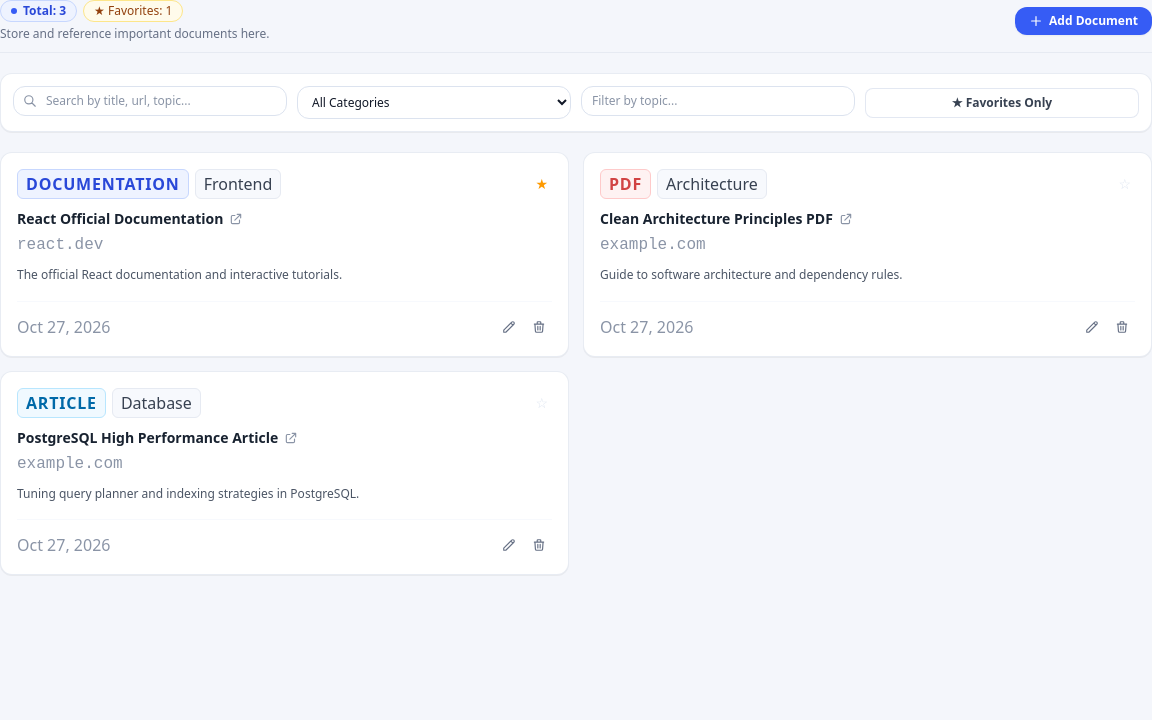
Test: Document Library Feature Frontend Test Suite › deletes a document via confirmation modal
The width and height of the screenshot is (1152, 720).
Expected: the text "Clean Architecture Principles PDF" is shown, [600,209,833,229]
Click the button titled "Delete document": {"x": 1122, "y": 326} [1109,314,1135,340]
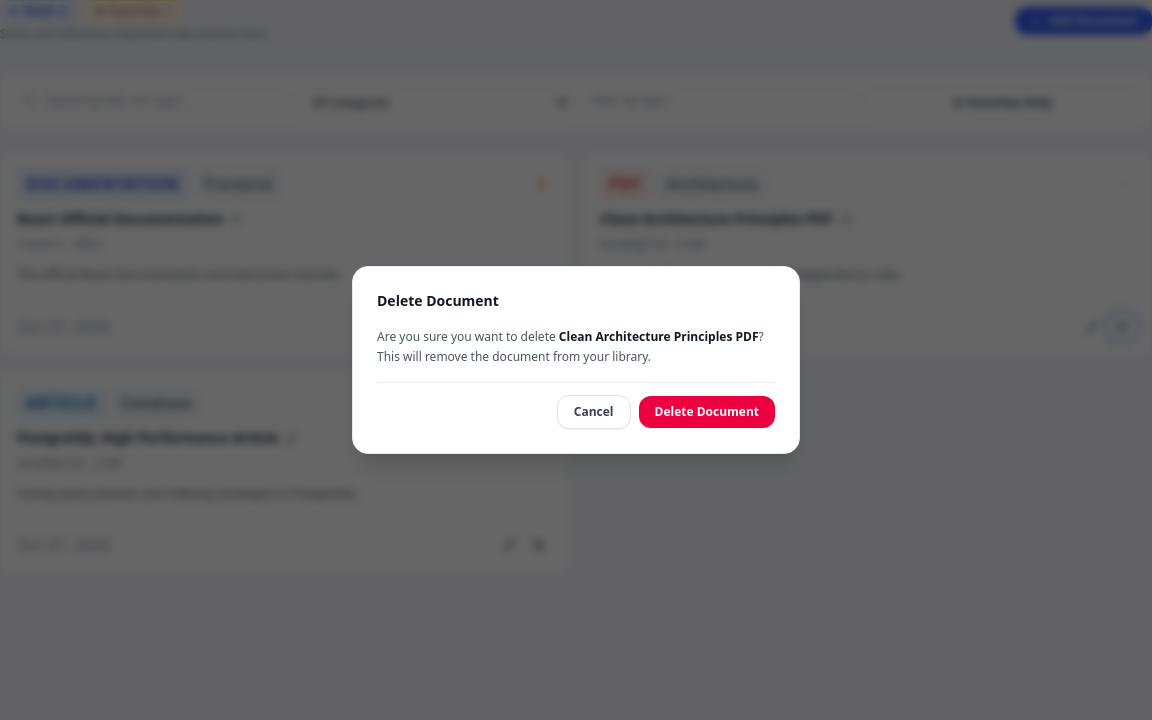
Expected: the dialog "Delete Document" is shown
Expected: the text "Clean Architecture Principles PDF" is shown, [559,328,758,345]
Click the button "Delete Document": {"x": 707, "y": 412} [638,396,775,428]
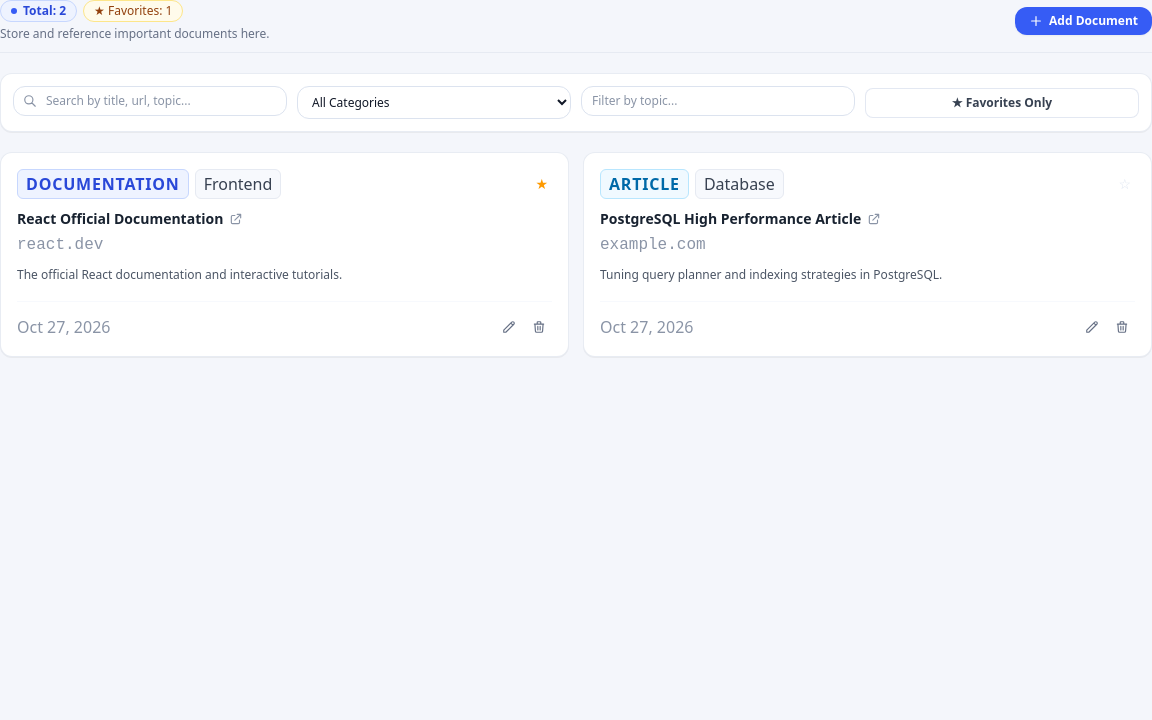
Expected: the heading "Delete Document" is gone
Expected: the link "Clean Architecture Principles PDF" is gone
